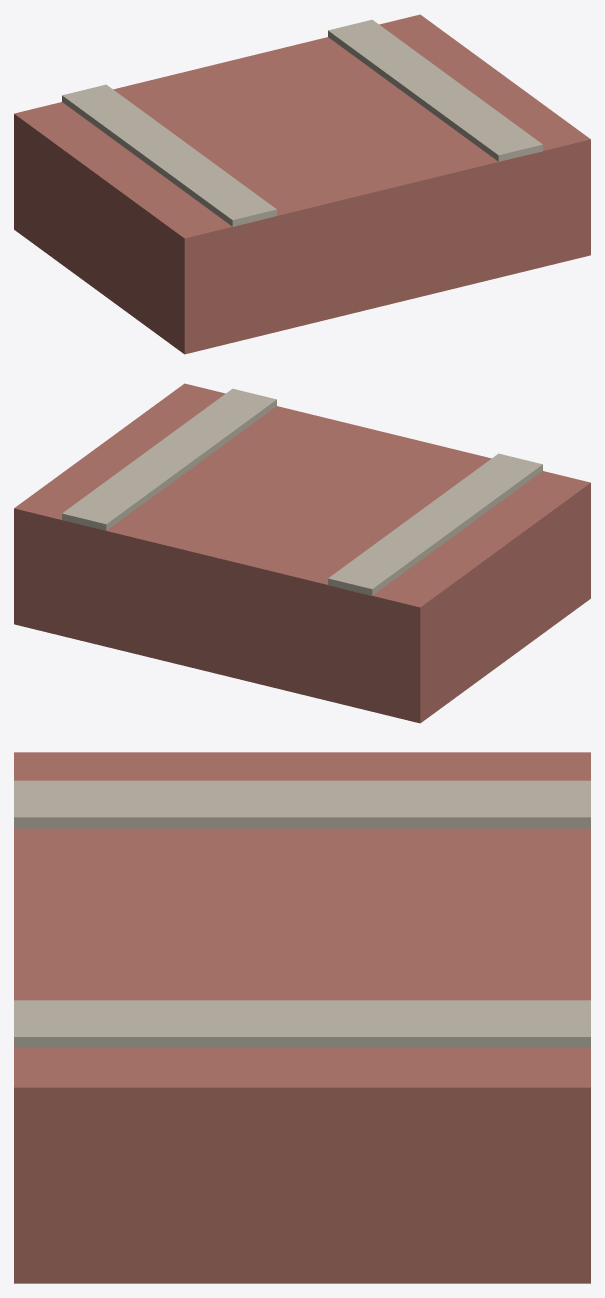
Rendered from blanket_folded.glb.
The picture shows the model from 3 angles, top to bottom: view 1: azimuth 30°, elevation 25°; view 2: azimuth 150°, elevation 25°; view 3: azimuth 270°, elevation 25°; orthographic projection. The views are drawn at different scales.
Visible parts, largest first — view 1: body; view 2: body; view 3: body.
Part boxes in pixels (x1,y1,x2,y2): body: (14,14,590,354); body: (14,383,590,723); body: (14,752,590,1283).
Size of the model in its own units: 0.55 by 0.1585 by 0.4.
